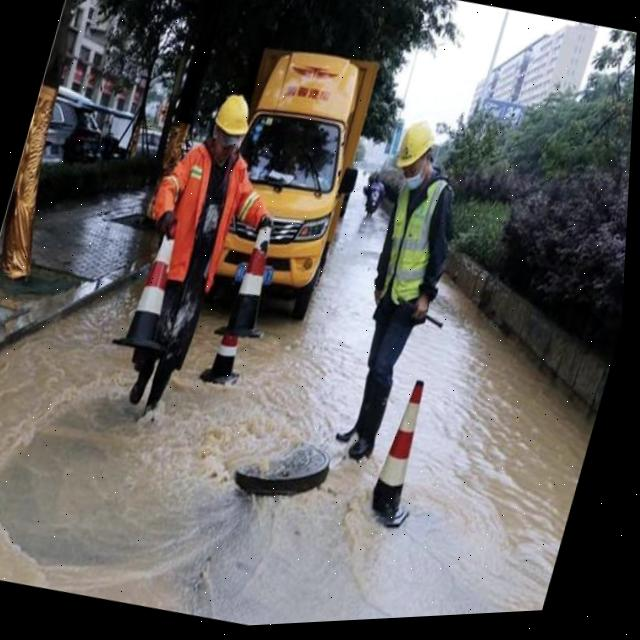rescuer: (83, 66, 317, 443), (304, 109, 494, 472)
